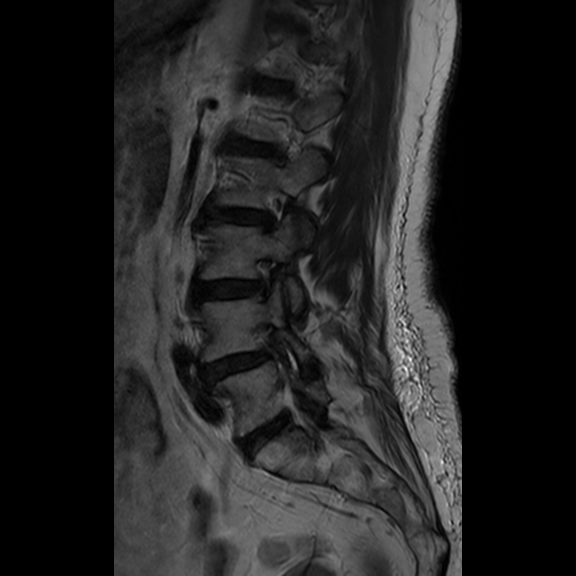LFS0: (252, 174, 303, 240)
